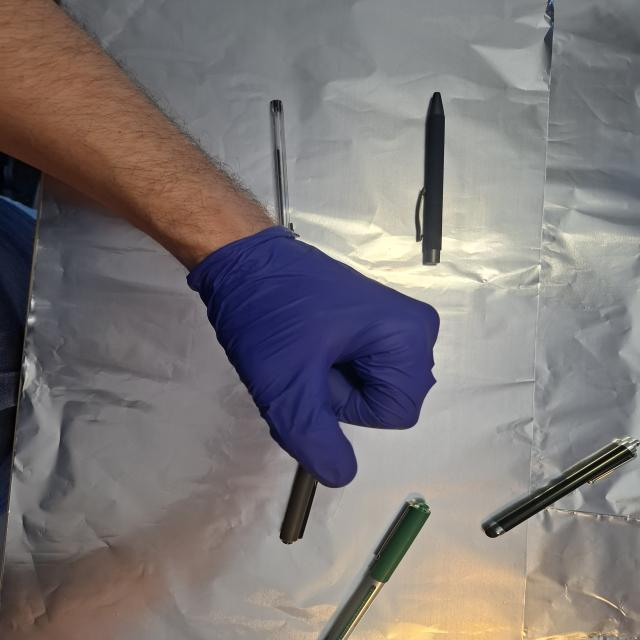glove_on: (184, 226, 444, 490)
